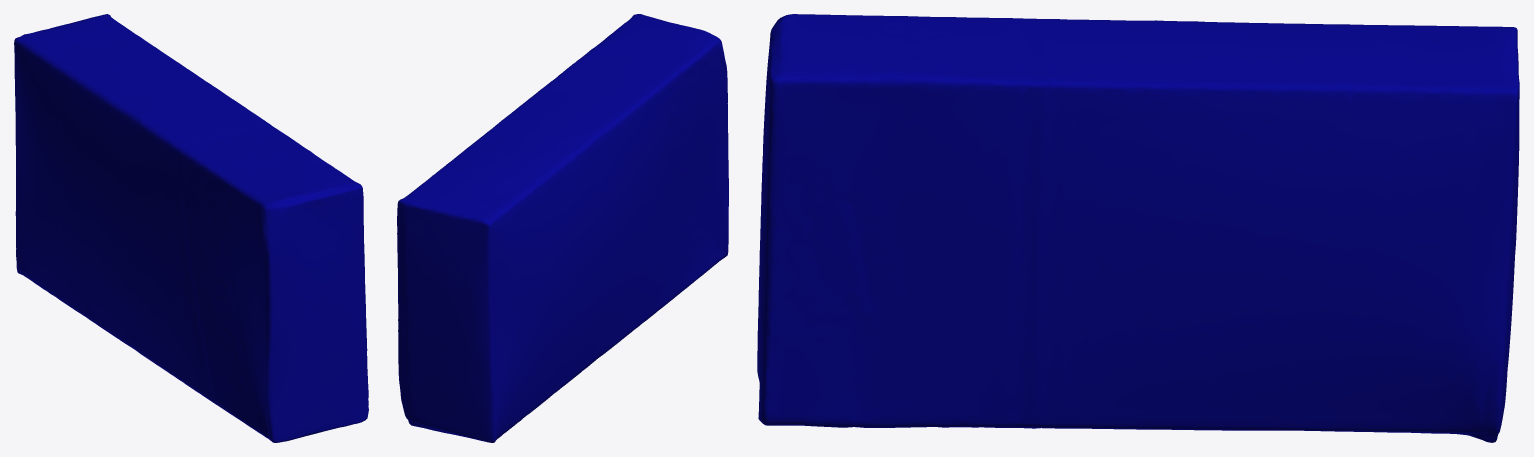
3 views of the same model, side by side, from view 1: azimuth 30°, elevation 25°; view 2: azimuth 150°, elevation 25°; view 3: azimuth 270°, elevation 25° (orthographic). The views are drawn at different scales.
Size of the model in its own units: 0.0451 by 0.0962 by 0.1775.
